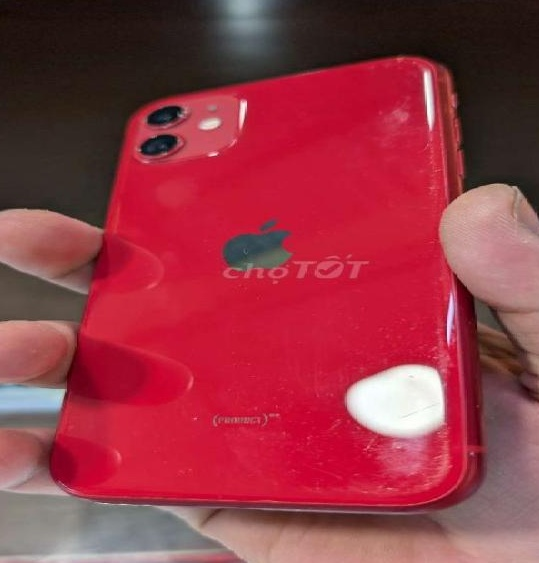scratch: (356, 51, 461, 192), (300, 428, 427, 507), (423, 276, 457, 509), (219, 394, 298, 442)
